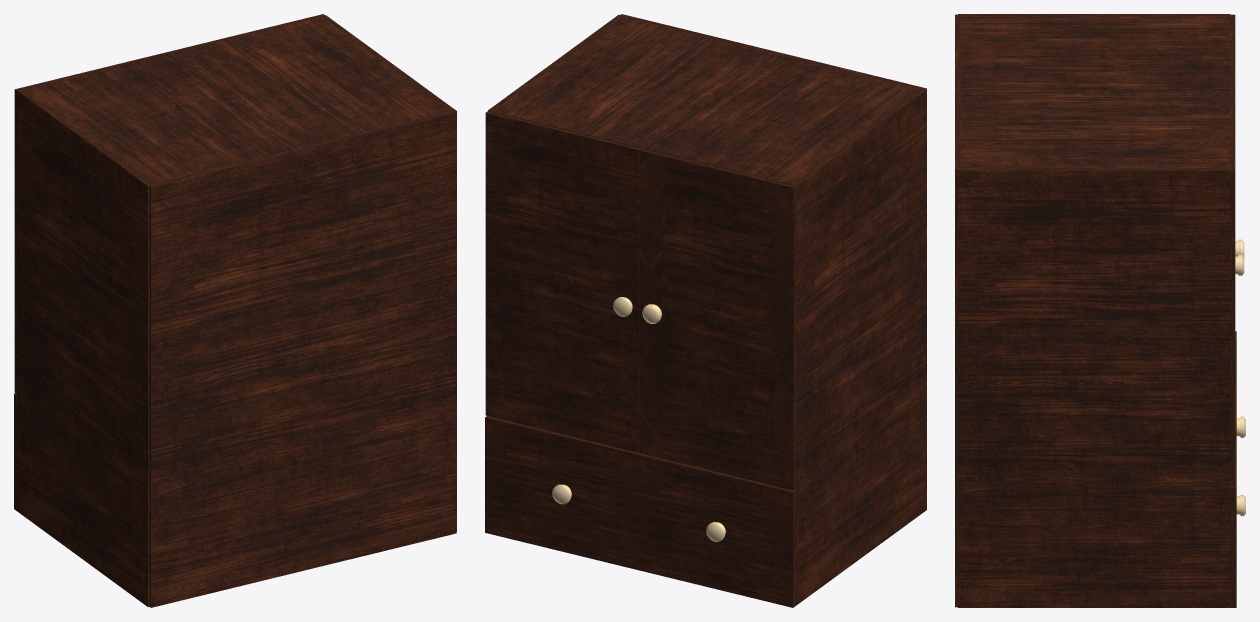
File: SimplWardrobe.gltf
3 renders of one model, left to right at view 1: azimuth 30°, elevation 25°; view 2: azimuth 150°, elevation 25°; view 3: azimuth 270°, elevation 25°, orthographic. The views are drawn at different scales.
Visible parts, largest first — view 1: Back, Right, Top, DoorRM-Wardrobe.1, Left; view 2: Right, DoorL, DoorR, Top, DoorRM-Wardrobe.1, DrawerR, DrawerL, Back, Left; view 3: Left, Top, Back, DoorL, DrawerL, Right, DoorRM-Wardrobe.1.
Boxes of the visible parts, x1,y1,x2,y2 form: Back: [148, 110, 456, 607]; Right: [17, 89, 151, 607]; Top: [22, 16, 449, 183]; DoorRM-Wardrobe.1: [14, 51, 169, 393]; Left: [321, 15, 456, 531]; Right: [791, 89, 926, 605]; DoorL: [485, 111, 641, 452]; DoorR: [640, 150, 793, 489]; Top: [493, 17, 919, 184]; DoorRM-Wardrobe.1: [640, 148, 796, 490]; DrawerR: [639, 453, 795, 607]; DrawerL: [485, 416, 640, 570]; Back: [619, 14, 926, 90]; Left: [488, 14, 621, 111]; Left: [958, 168, 1230, 607]; Top: [961, 16, 1230, 167]; Back: [955, 14, 961, 607]; DoorL: [1230, 93, 1235, 486]; DrawerL: [1230, 409, 1236, 607]; Right: [958, 14, 1230, 16]; DoorRM-Wardrobe.1: [1230, 14, 1235, 92].
Bounding box in the file's own units: 272 × 354 × 214.
Materials: 3 (1 with a texture image).
